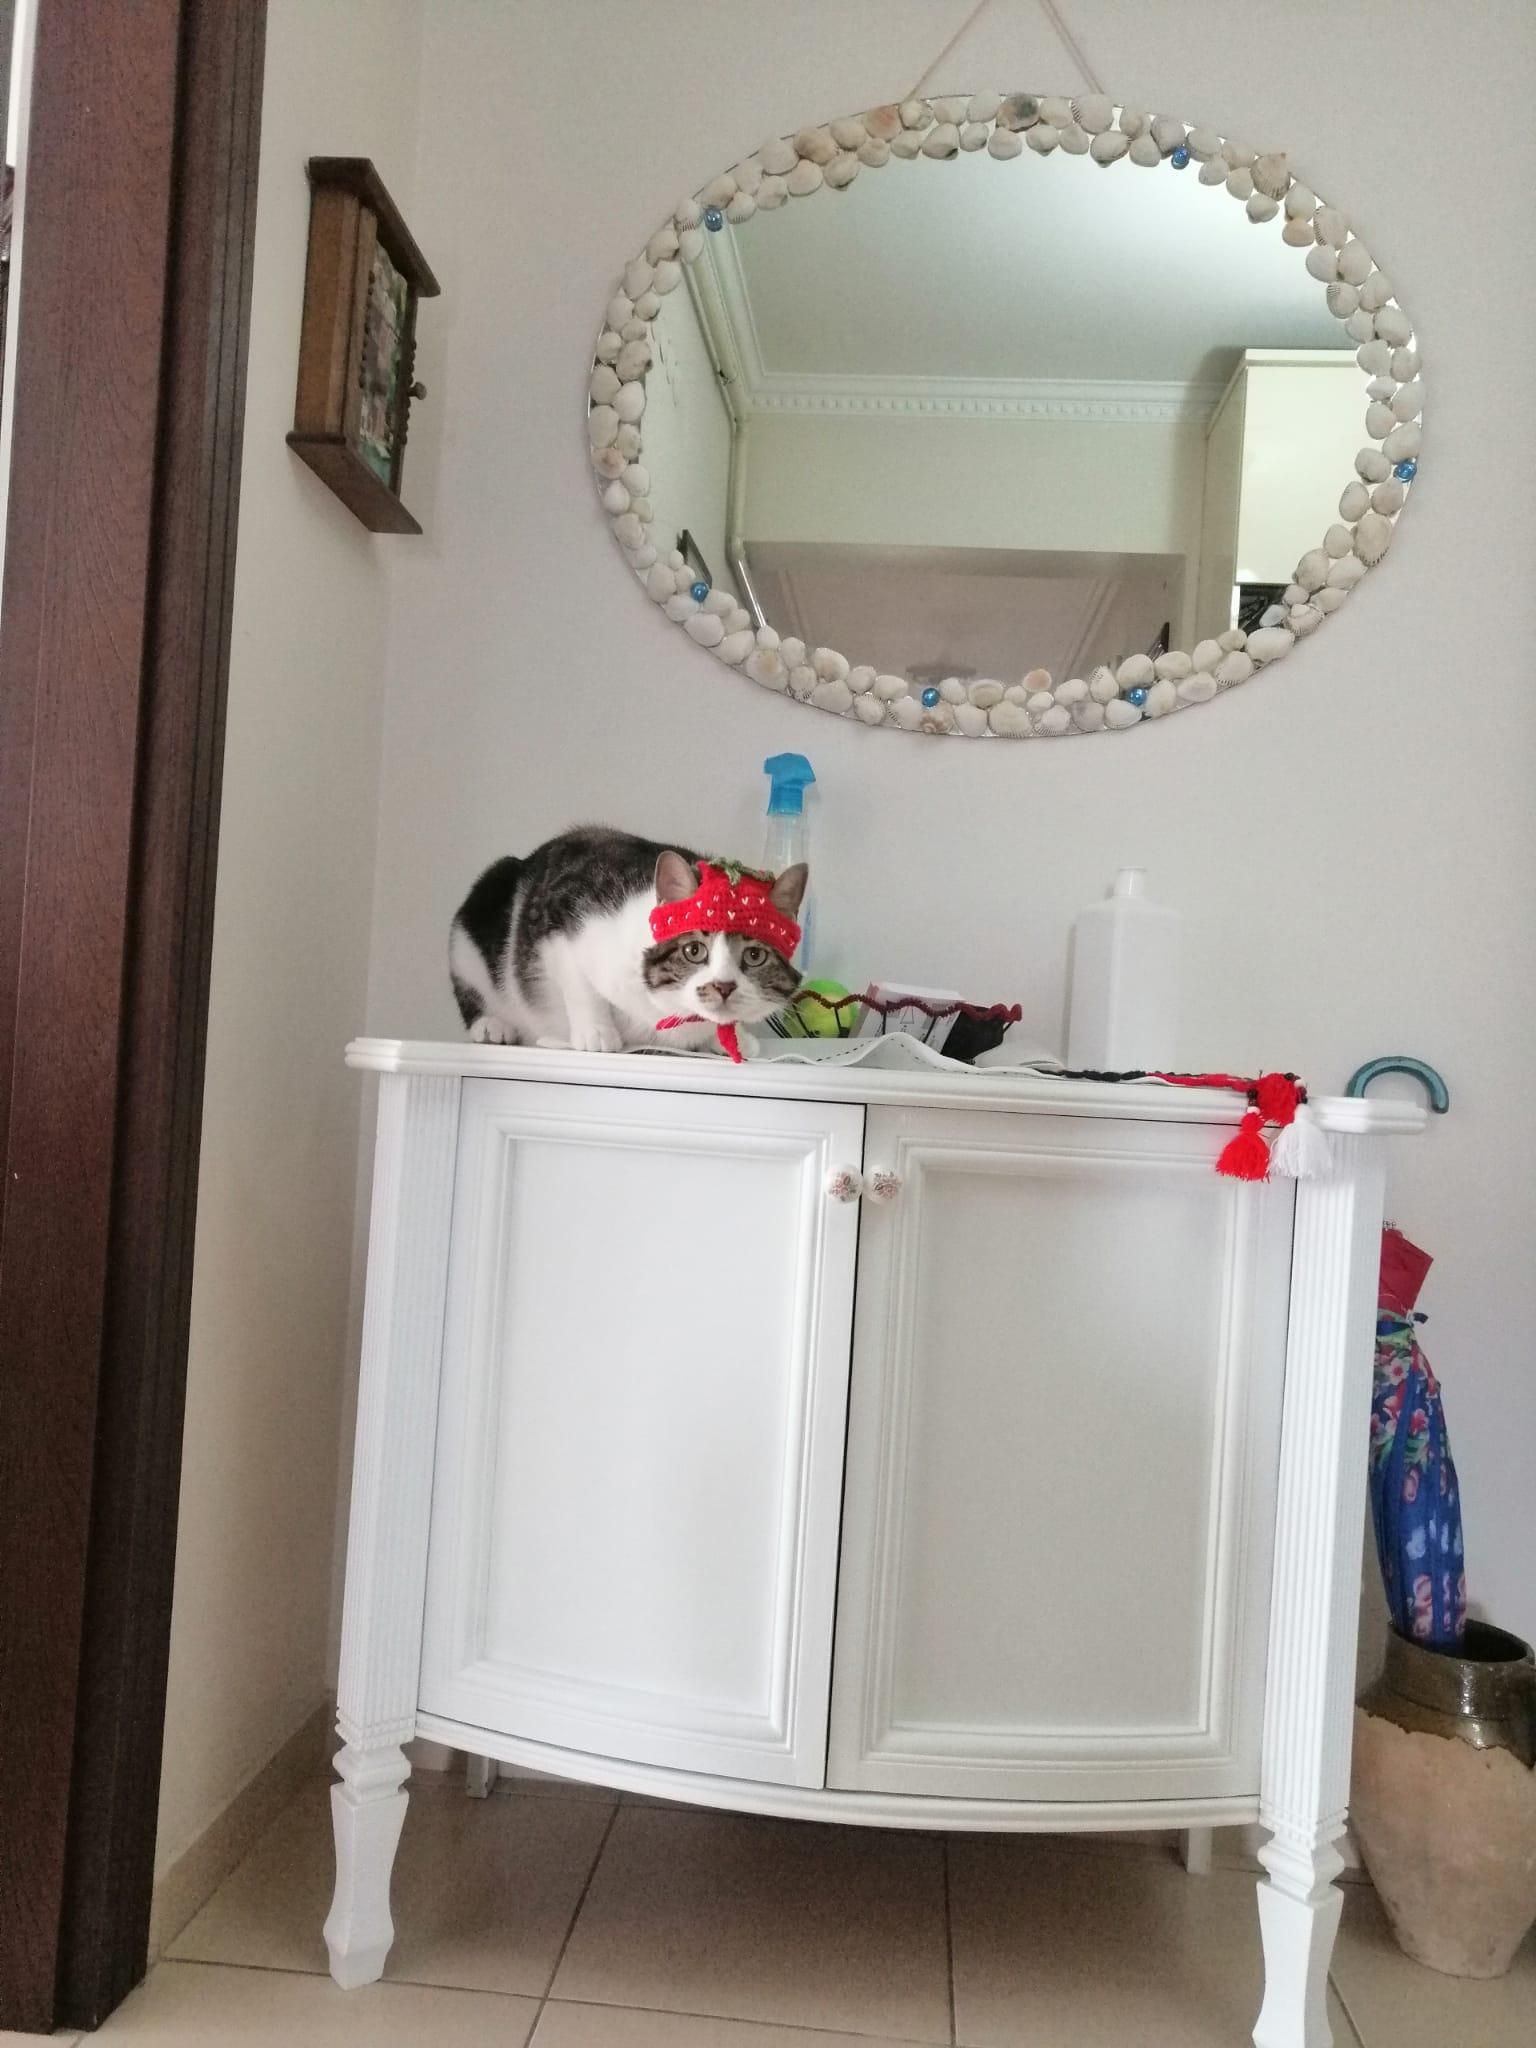kedo: (452, 829, 808, 1061)
